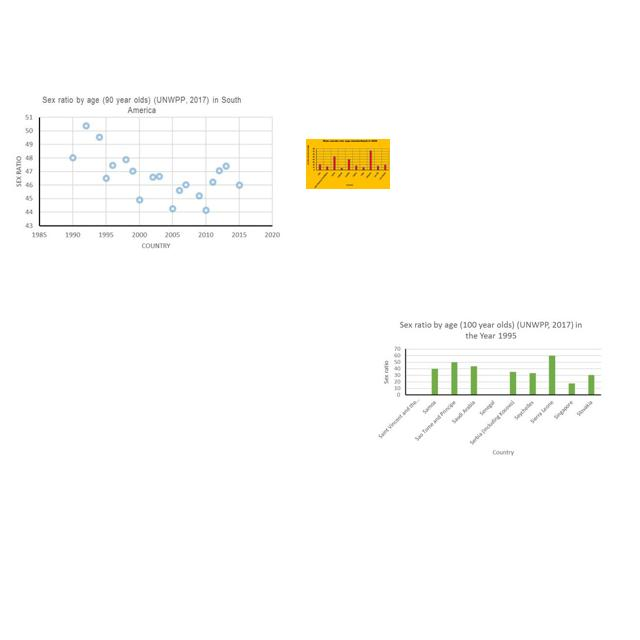Graph: (8, 91, 285, 251), (375, 315, 604, 457), (306, 139, 390, 189)
